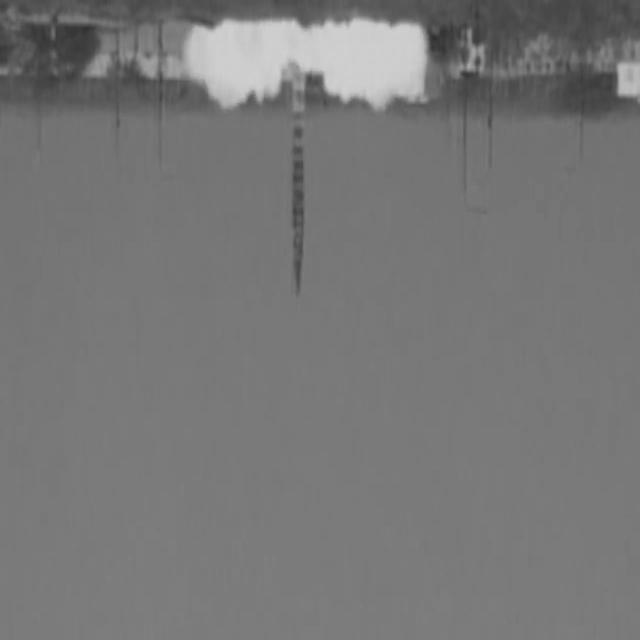missile: (284, 73, 310, 306)
